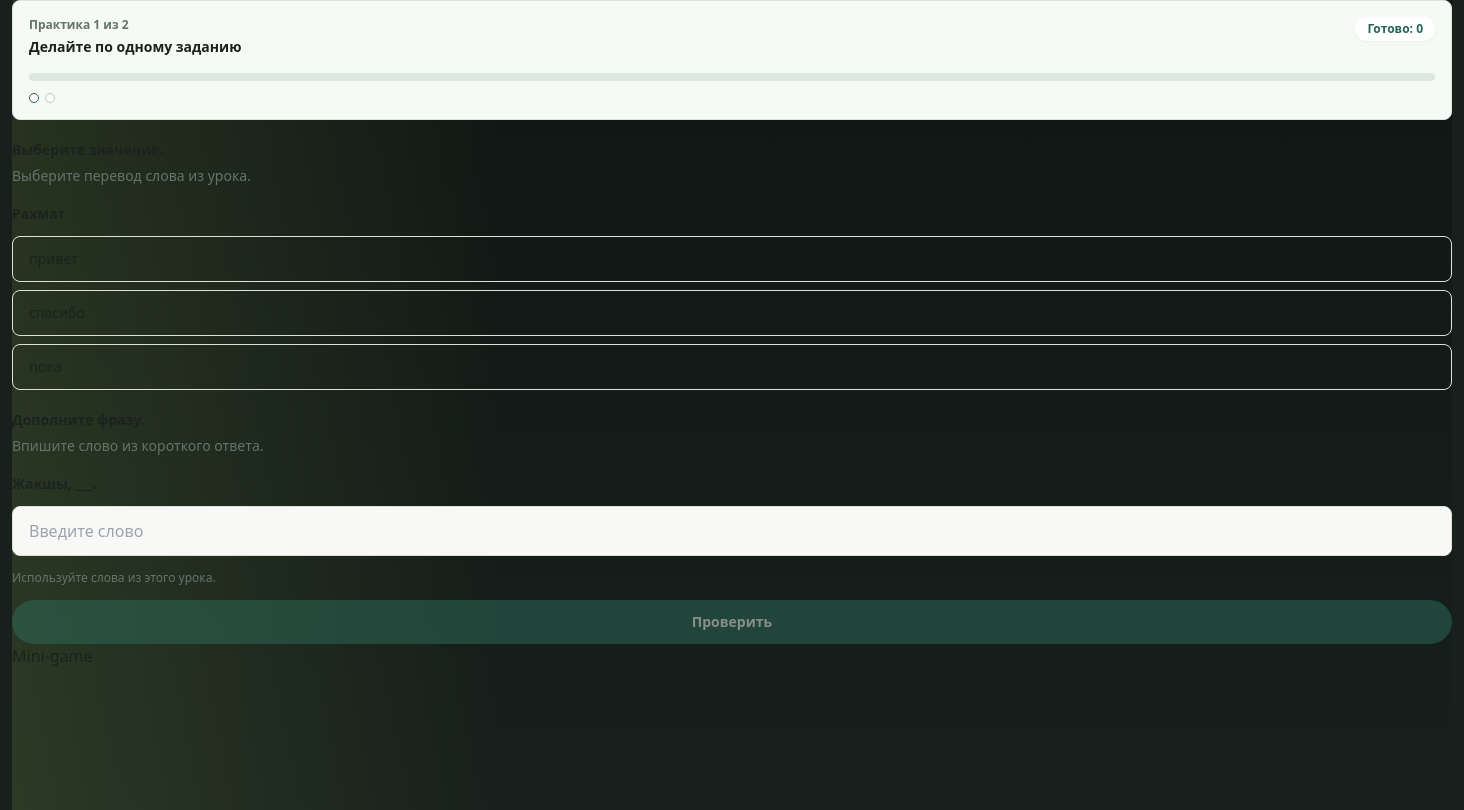
Scenario: PracticeSection › shows missed review state after an incorrect answer
The width and height of the screenshot is (1464, 810).
Click the button "привет".
click(53, 258)  # box x1=12 y1=236 x2=1452 y2=282
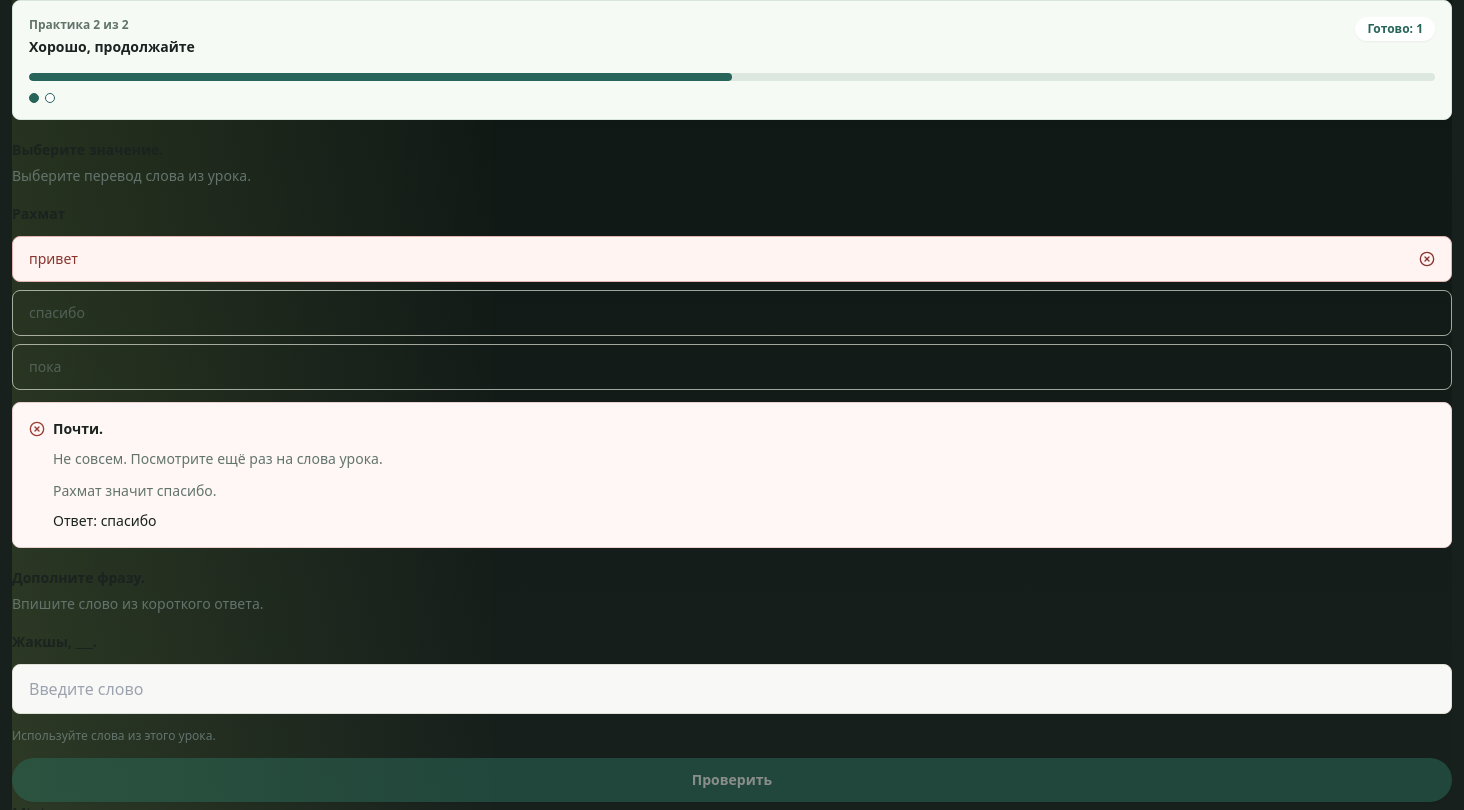
Type "рахмат" into the field labelled "Жакшы, ___.".
click(732, 689); type("рахмат")  # box x1=12 y1=664 x2=1452 y2=714
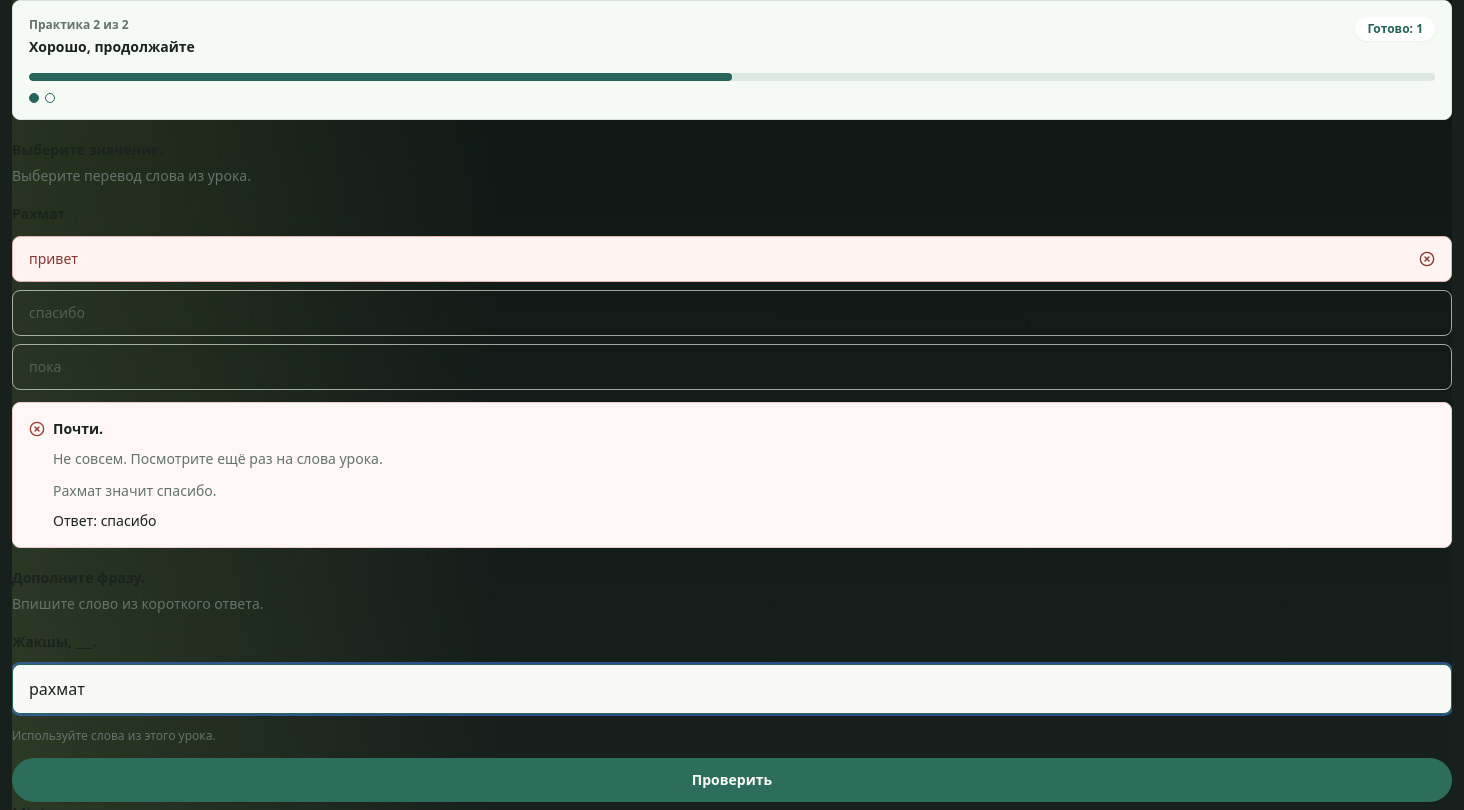
Click the button "Проверить".
click(732, 780)  # box x1=12 y1=758 x2=1452 y2=802
(page scrolled)
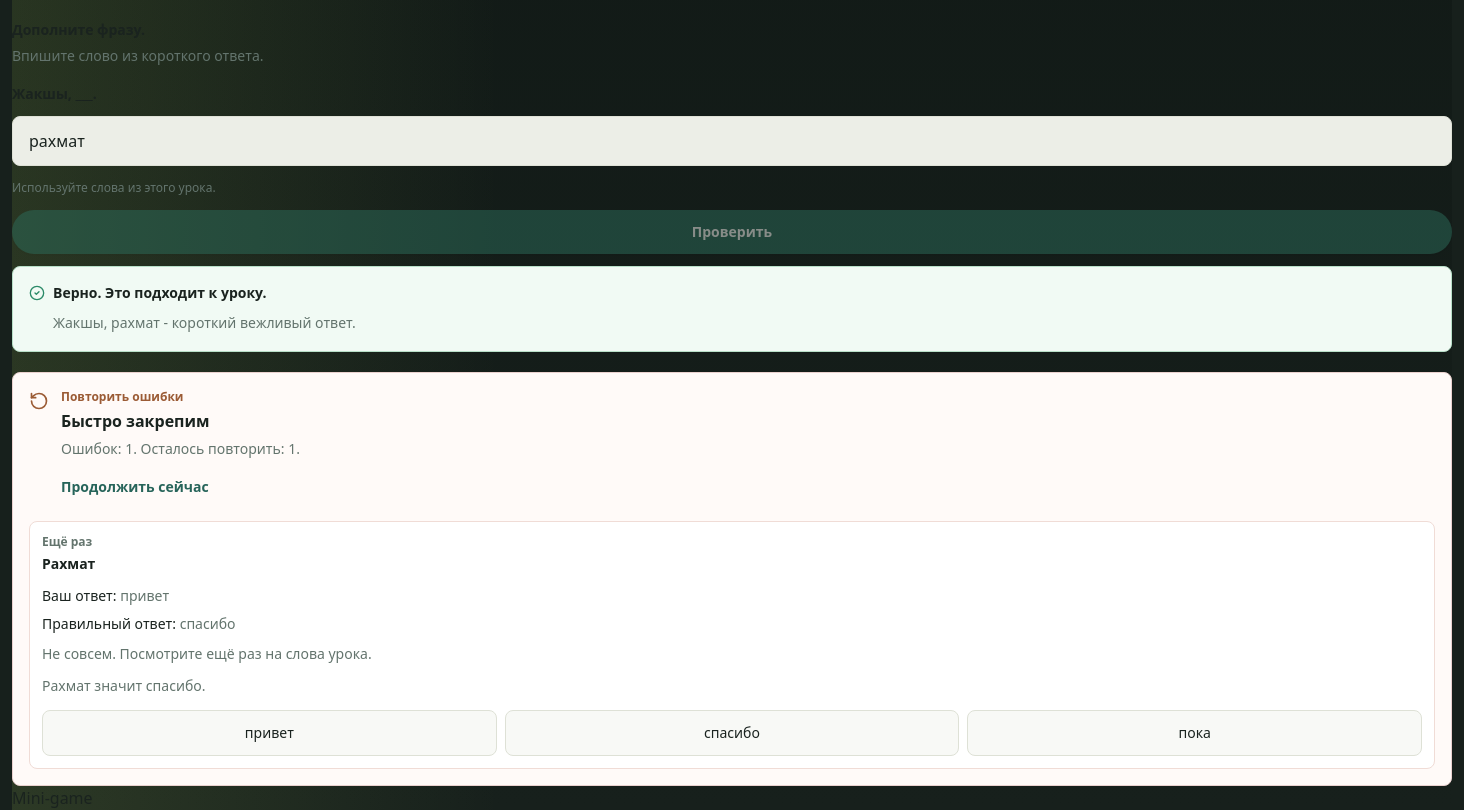
Result: the element with test id "missed-review" shows "Повторить ошибки" at x1=61 y1=388 x2=184 y2=405
Result: the element with test id "missed-review" shows "Ошибок: 1" at x1=61 y1=439 x2=300 y2=458
Result: the button with test id "practice-continue-anyway" is shown at x1=61 y1=469 x2=209 y2=505
